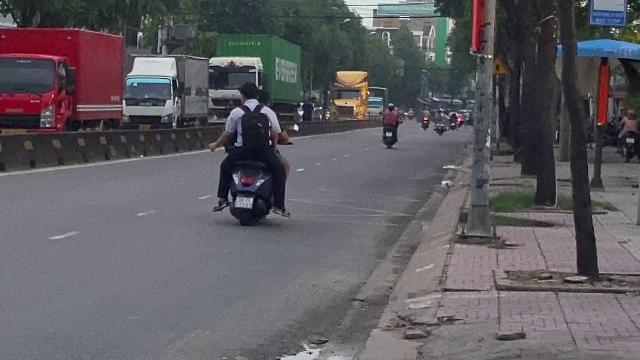licenseplate: (235, 198, 252, 208)
motorcyclist: (210, 80, 292, 226)
nohelmet: (238, 81, 260, 102)
